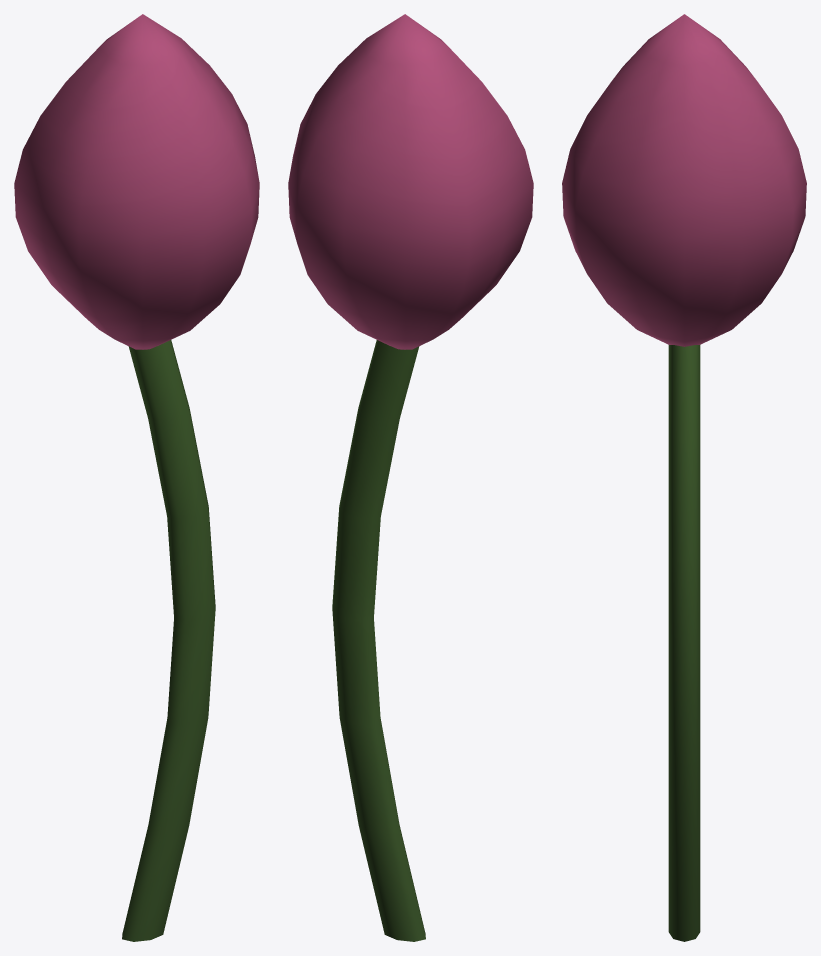
The model's file is CP03-N01-bud.glb.
The picture shows the model from 3 angles, left to right: view 1: azimuth 30°, elevation 25°; view 2: azimuth 150°, elevation 25°; view 3: azimuth 270°, elevation 25°; orthographic projection.
Parts seen in each view (by area): view 1: CP03-N01-bud; view 2: CP03-N01-bud; view 3: CP03-N01-bud.
Part boxes in pixels (x1,y1,x2,y2): CP03-N01-bud: [14, 14, 259, 941]; CP03-N01-bud: [288, 14, 533, 941]; CP03-N01-bud: [562, 14, 806, 941].
Bounding box in the file's own units: 0.1838 × 0.76 × 0.1838.
Materials: 1 (1 with a texture image).
